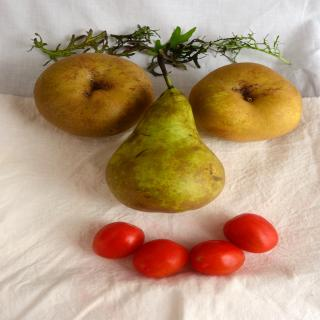Pear: (107, 87, 225, 213), (38, 54, 150, 132)
